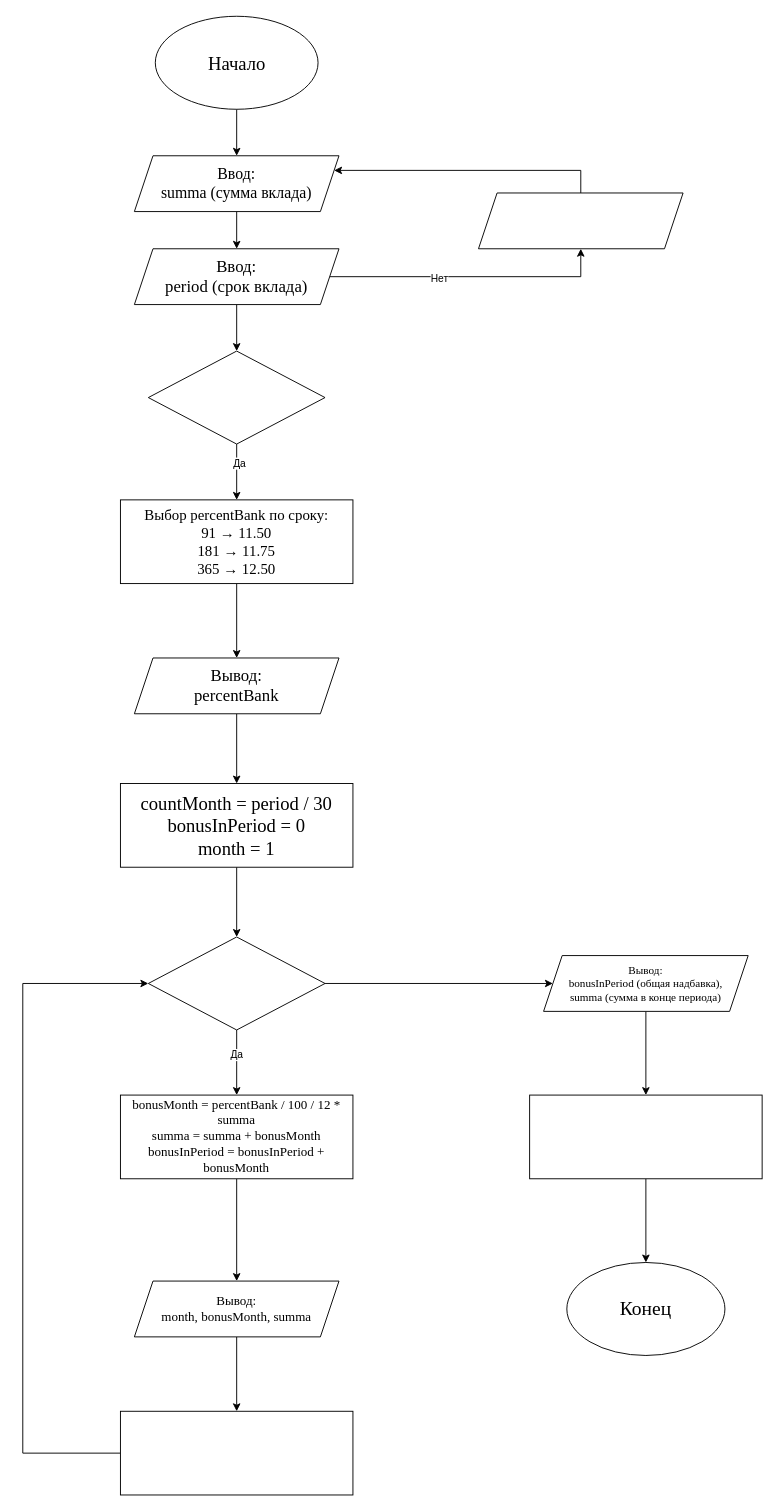
The diagram is 778 pixels wide and 1511 high, and some of its shapes have lost their labels. Each missing label, with the box of its shape:
month <= countMonth?: (147, 936, 325, 1030)
month = month + 1: (120, 1410, 353, 1495)
period = 91 или 181 или 365?: (147, 350, 325, 444)
Вывод: «Вы ошиблись со сроком. Повторите ещё раз»: (478, 192, 683, 249)
Ожидание нажатия клавиши (Console.ReadKey): (529, 1094, 762, 1179)
